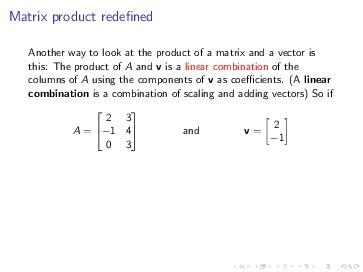paragraph: (22, 41, 347, 171)
title: (6, 7, 163, 28)
